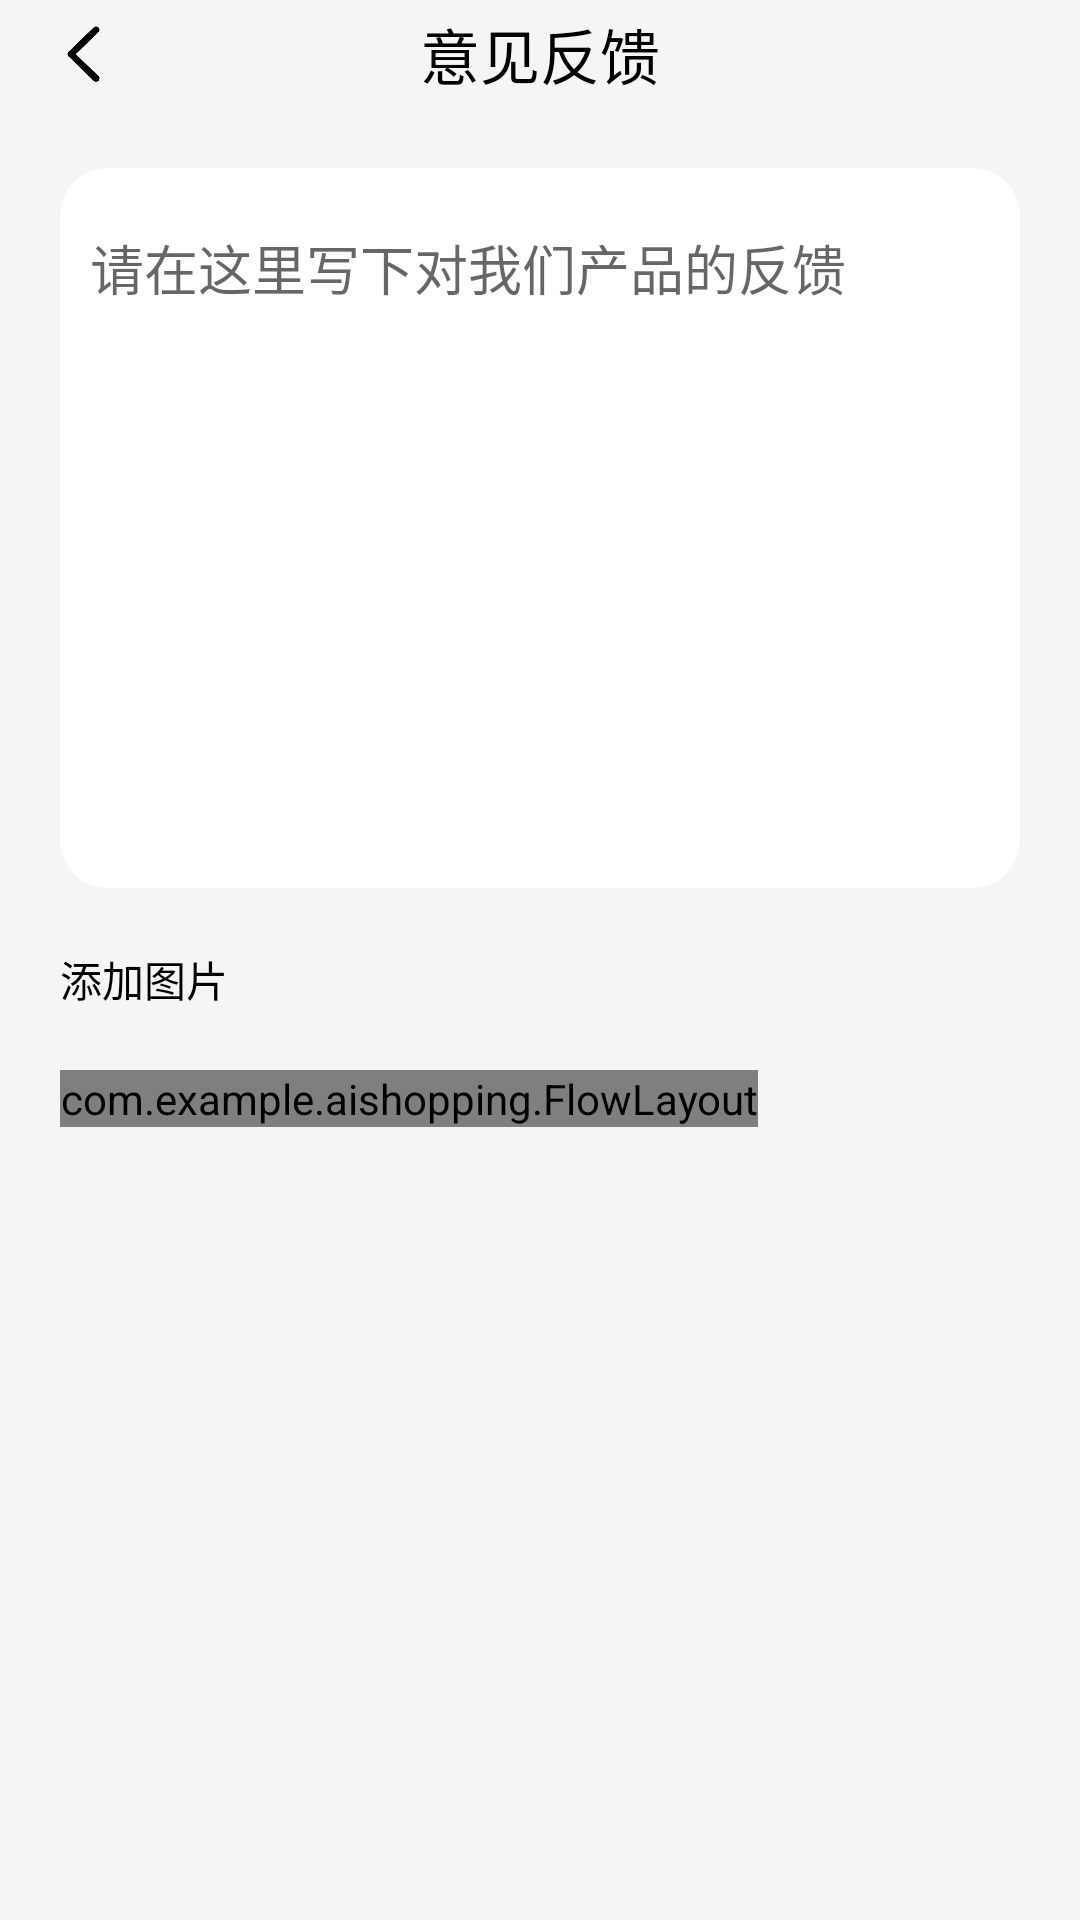

Point at icon controls on the screen. Image size 1080px x 1920px, points as (x=x, y=y).
back: (x=83, y=54)
